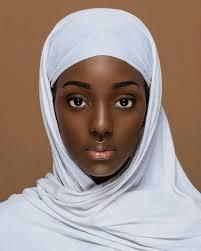No Mask: (50, 46, 161, 194)
